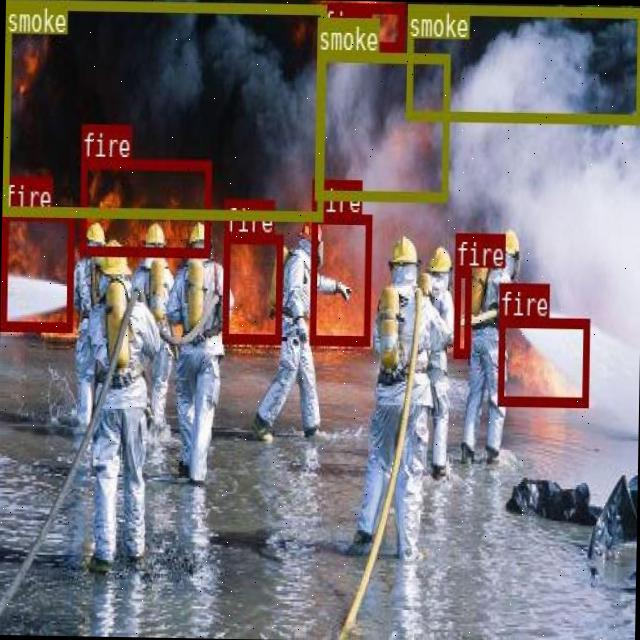fire: (79, 157, 210, 255), (0, 208, 72, 329), (496, 315, 588, 406), (309, 212, 370, 342), (222, 234, 282, 342), (321, 1, 404, 49), (452, 266, 470, 356)
smoke: (1, 0, 325, 218), (405, 2, 640, 121), (314, 49, 449, 200)
